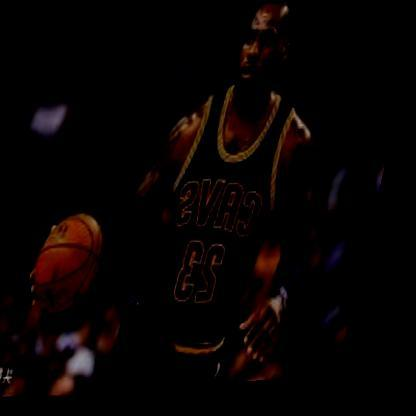basketball: (35, 212, 119, 319)
